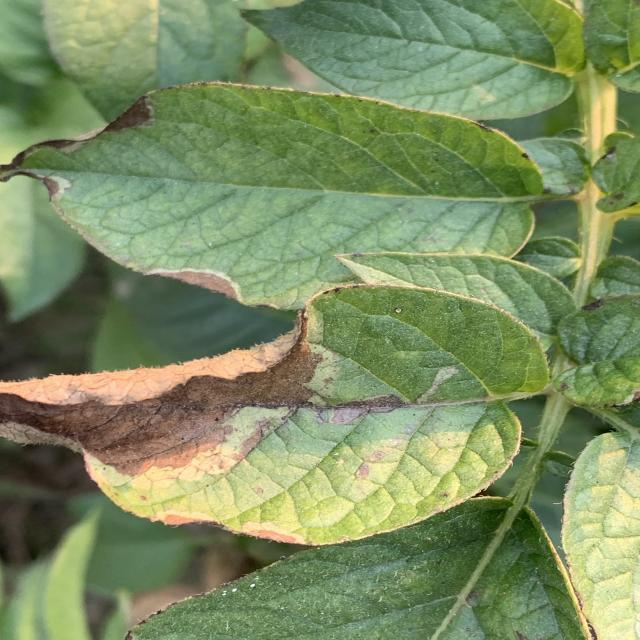lateblight: (2, 314, 320, 474), (2, 91, 160, 202), (148, 269, 245, 302)
